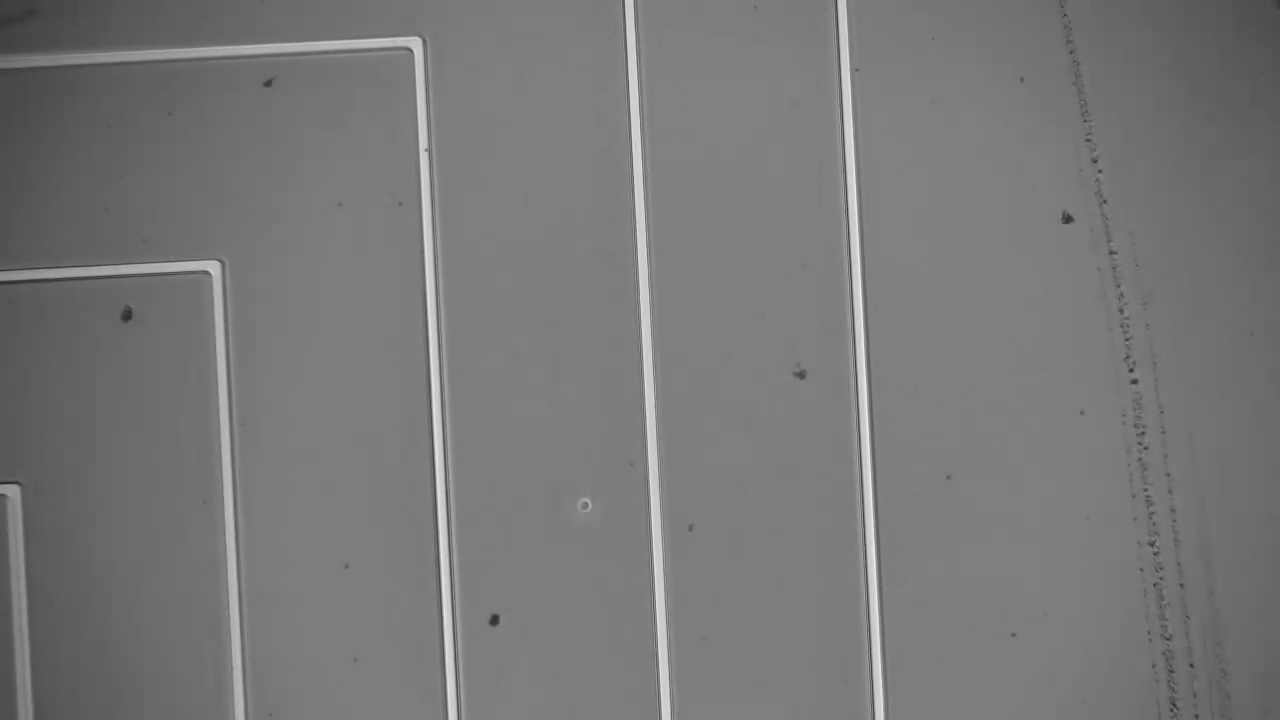scratch: (1056, 4, 1234, 716)
